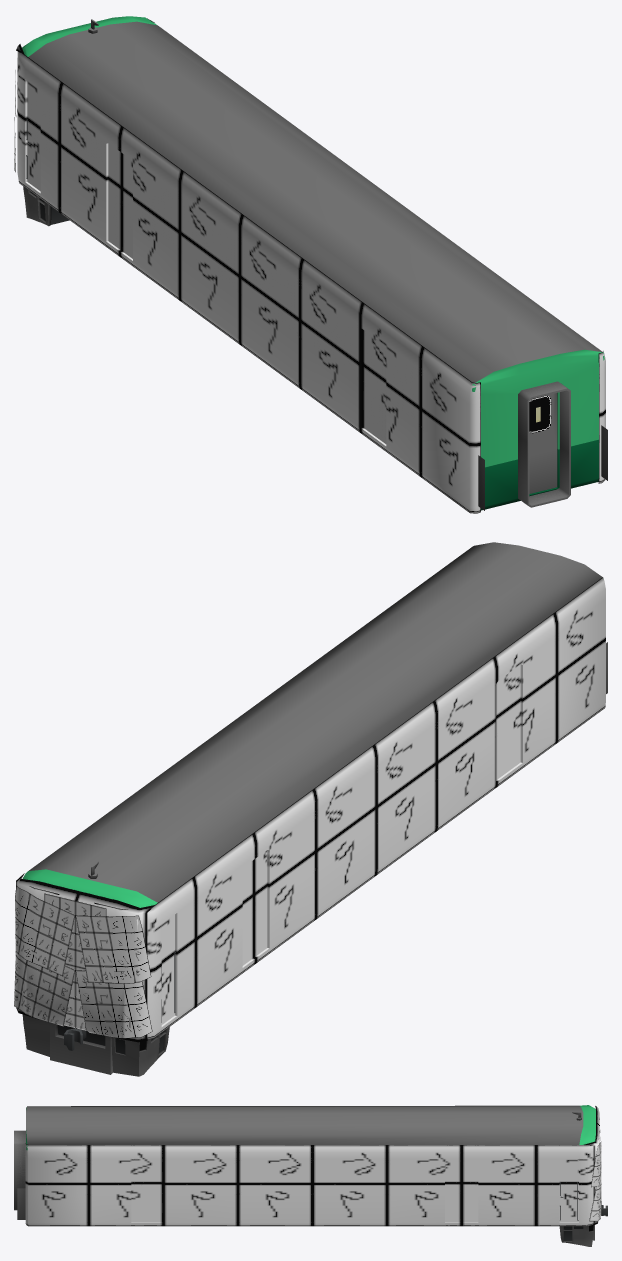
The picture shows the model from 3 angles, top to bottom: view 1: azimuth 30°, elevation 25°; view 2: azimuth 150°, elevation 25°; view 3: azimuth 270°, elevation 25°; orthographic projection. The views are drawn at different scales.
Visible parts, largest first — view 1: in, MI, obj1, obj6, obj14, obj4, obj2, obj5, MI_END; view 2: in, RAIN, obj5, obj4, obj14, obj2, obj1, obj6, MI, MI_END, MIC; view 3: in, obj6, obj1, obj14, obj5, obj2, obj4, MI, MI_END, RAIN, MIC.
Part boxes in pixels (x1=…): in: x1=22, y1=16, x2=607, y2=510; MI: x1=420, y1=347, x2=605, y2=513; obj1: x1=300, y1=258, x2=362, y2=432; obj6: x1=59, y1=82, x2=122, y2=256; obj14: x1=240, y1=215, x2=302, y2=389; obj4: x1=180, y1=170, x2=242, y2=344; obj2: x1=360, y1=302, x2=423, y2=477; obj5: x1=119, y1=126, x2=182, y2=300; MI_END: x1=17, y1=52, x2=62, y2=212; in: x1=22, y1=542, x2=607, y2=1076; RAIN: x1=14, y1=885, x2=152, y2=1038; obj5: x1=253, y1=789, x2=316, y2=963; obj4: x1=313, y1=745, x2=376, y2=919; obj14: x1=374, y1=701, x2=436, y2=875; obj2: x1=494, y1=613, x2=556, y2=787; obj1: x1=434, y1=657, x2=496, y2=831; obj6: x1=193, y1=833, x2=256, y2=1007; MI: x1=554, y1=577, x2=605, y2=743; MI_END: x1=20, y1=876, x2=195, y2=1039; MIC: x1=16, y1=873, x2=154, y2=1042; in: x1=14, y1=1105, x2=607, y2=1246; obj6: x1=461, y1=1145, x2=536, y2=1226; obj1: x1=163, y1=1145, x2=237, y2=1226; obj14: x1=238, y1=1145, x2=312, y2=1226; obj5: x1=387, y1=1145, x2=461, y2=1226; obj2: x1=89, y1=1145, x2=163, y2=1226; obj4: x1=312, y1=1145, x2=386, y2=1226; MI: x1=25, y1=1143, x2=88, y2=1226; MI_END: x1=536, y1=1117, x2=599, y2=1226; RAIN: x1=589, y1=1130, x2=601, y2=1221; MIC: x1=584, y1=1106, x2=599, y2=1225.
Size of the model in its own units: 6.55 by 8.81 by 39.83.
Materials: 36 (34 with a texture image).
